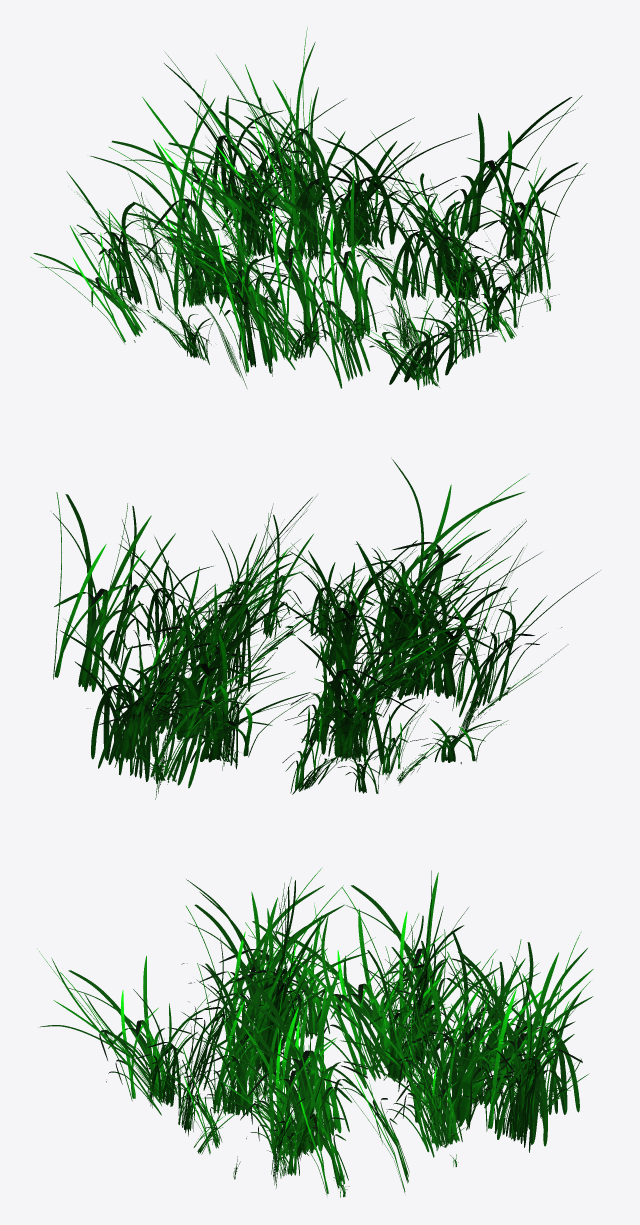
Rendered from grass_wip2.dae.
The picture shows the model from 3 angles, top to bottom: view 1: azimuth 30°, elevation 25°; view 2: azimuth 150°, elevation 25°; view 3: azimuth 270°, elevation 25°; orthographic projection. The views are drawn at different scales.
Parts seen in each view (by area): view 1: Plane.188, Plane.201, Plane.203, Plane.204, Plane.137, Plane.200, Plane.207, Plane.185, Plane.216, Plane.213, Plane.215, Plane.232 (+31 smaller); view 2: Plane.200, Plane.188, Plane.232, Plane.201, Plane.204, Plane.208, Plane.173, Plane.225, Plane.197, Plane.137, Plane.207, Plane.164 (+35 smaller); view 3: Plane.218, Plane.191, Plane.197, Plane.156, Plane.143, Plane.177, Plane.135, Plane.220, Plane.138, Plane.215, Plane.190, Plane.187 (+38 smaller).
Boxes of the visible parts, bbox=[...] form: Plane.188: bbox=[90, 80, 224, 314]; Plane.201: bbox=[213, 155, 332, 359]; Plane.203: bbox=[274, 117, 414, 260]; Plane.204: bbox=[159, 184, 286, 375]; Plane.137: bbox=[275, 173, 392, 342]; Plane.200: bbox=[429, 95, 582, 235]; Plane.207: bbox=[317, 127, 471, 247]; Plane.185: bbox=[255, 212, 370, 388]; Plane.216: bbox=[374, 178, 496, 300]; Plane.213: bbox=[465, 157, 550, 299]; Plane.215: bbox=[66, 171, 162, 312]; Plane.232: bbox=[389, 294, 559, 384]; Plane.200: bbox=[53, 492, 151, 694]; Plane.188: bbox=[277, 585, 438, 763]; Plane.232: bbox=[355, 458, 529, 645]; Plane.201: bbox=[334, 541, 471, 692]; Plane.204: bbox=[388, 576, 517, 698]; Plane.208: bbox=[146, 643, 269, 788]; Plane.173: bbox=[86, 638, 194, 783]; Plane.225: bbox=[60, 618, 200, 762]; Plane.197: bbox=[138, 603, 296, 740]; Plane.137: bbox=[295, 550, 400, 679]; Plane.207: bbox=[120, 536, 262, 733]; Plane.164: bbox=[459, 570, 600, 717]; Plane.218: bbox=[227, 968, 367, 1153]; Plane.191: bbox=[447, 951, 582, 1131]; Plane.197: bbox=[427, 929, 525, 1128]; Plane.156: bbox=[242, 903, 390, 1088]; Plane.143: bbox=[363, 949, 500, 1124]; Plane.177: bbox=[188, 885, 344, 1073]; Plane.135: bbox=[458, 981, 593, 1146]; Plane.220: bbox=[457, 931, 587, 1118]; Plane.138: bbox=[266, 909, 419, 1075]; Plane.215: bbox=[342, 872, 470, 1039]; Plane.190: bbox=[60, 956, 190, 1101]; Plane.187: bbox=[196, 963, 291, 1113].
Size of the model in its own units: 2.89 by 2.91 by 0.9387.
Materials: 1 (1 with a texture image).
